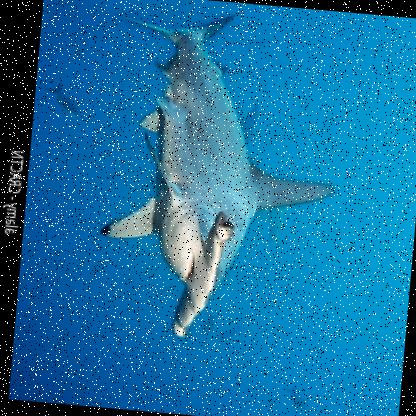hammerhead_Shark: (84, 0, 350, 351)
